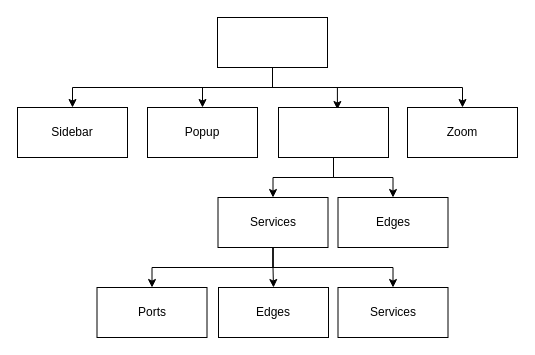
This 535x355 diagram has some shape labels left out. The shapes that lost their labels are listed below. From the top down, each one's centre as x and y in pixels, then its label:
At (272,42): "App".
At (333,132): "Networks".
